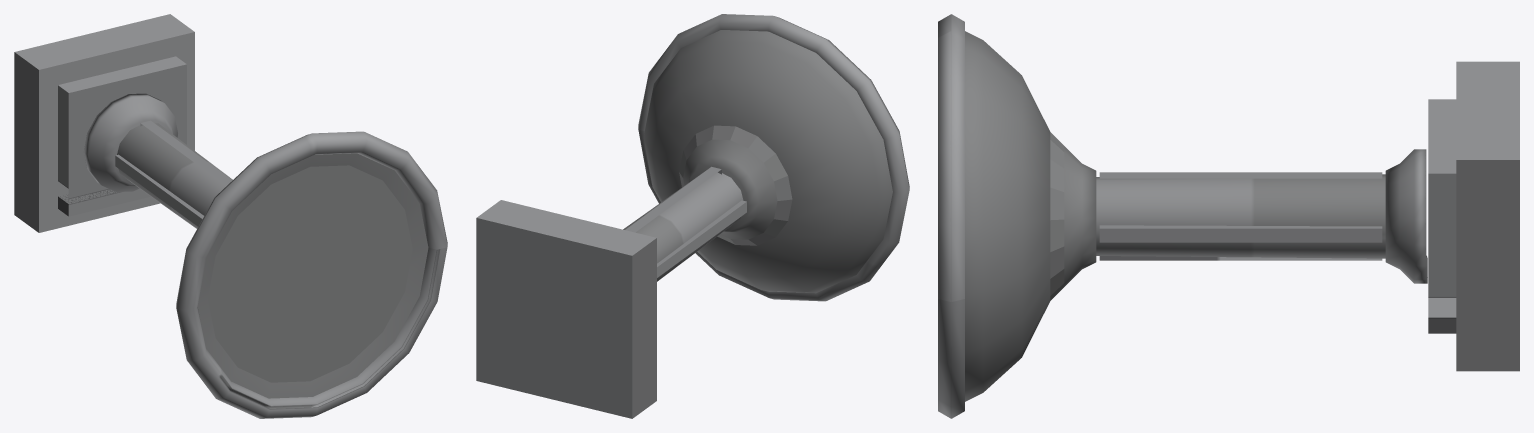
3 renders of one model, left to right at view 1: azimuth 30°, elevation 25°; view 2: azimuth 150°, elevation 25°; view 3: azimuth 270°, elevation 25°, orthographic. The views are drawn at different scales.
Bounding box in the file's own units: 0.6199 × 0.6199 × 0.89.
